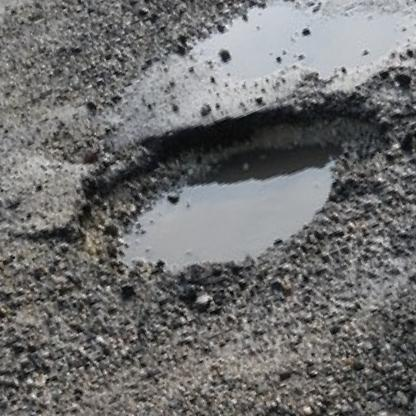pothole: (46, 37, 416, 345)
